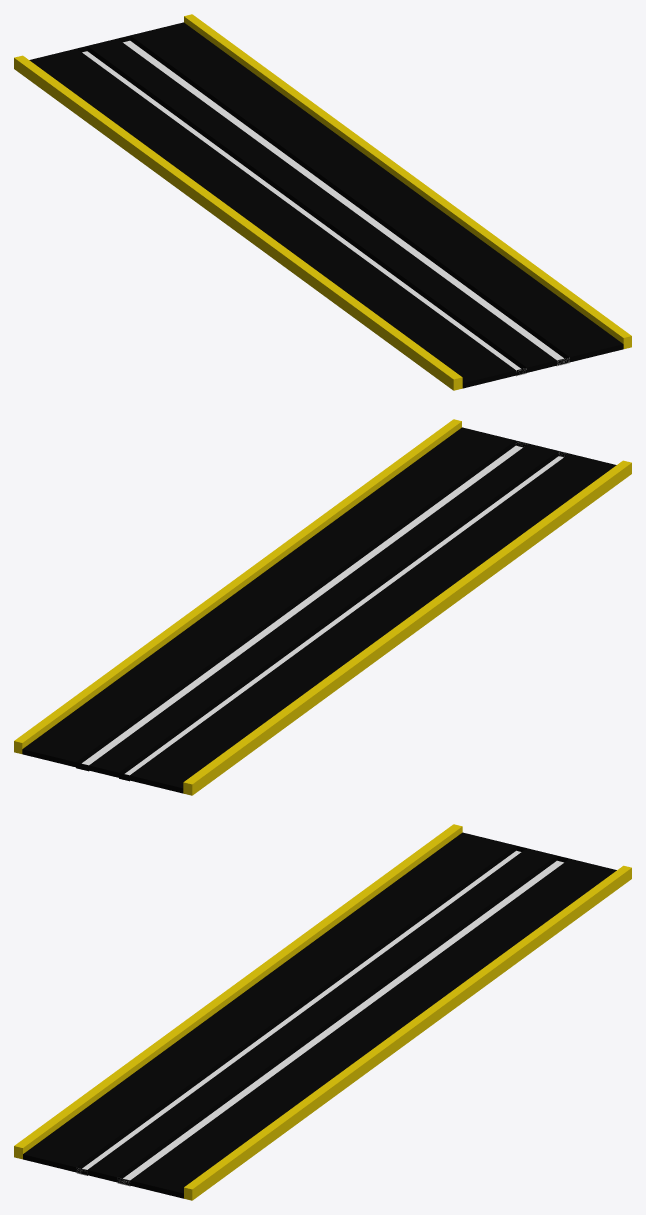
Rendered from Road.fbx.
3 renders of one model, top to bottom at view 1: azimuth 30°, elevation 25°; view 2: azimuth 150°, elevation 25°; view 3: azimuth 330°, elevation 25°, orthographic.
Visible parts, largest first — view 1: Cube; view 2: Cube; view 3: Cube.
Boxes of the visible parts, x1,y1,x2,y2 form: Cube: (14, 14, 631, 390); Cube: (14, 419, 631, 795); Cube: (14, 824, 631, 1200).
Bounding box in the file's own units: 249 × 16.18 × 1064.
